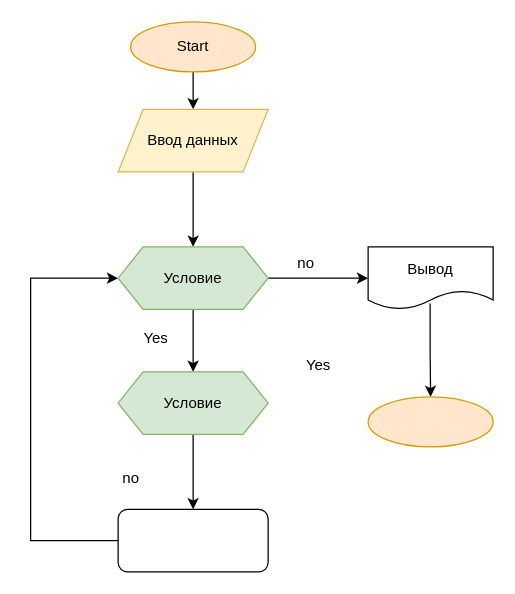
The diagram is 515 pixels wide and 594 high, and some of its shapes have lost their labels. The shapes that lost their labels are listed below. From the top down, each one's centre as x and y in pixels, then its label:
At (430,421): "Finish".
At (192,540): "Счетчик".
